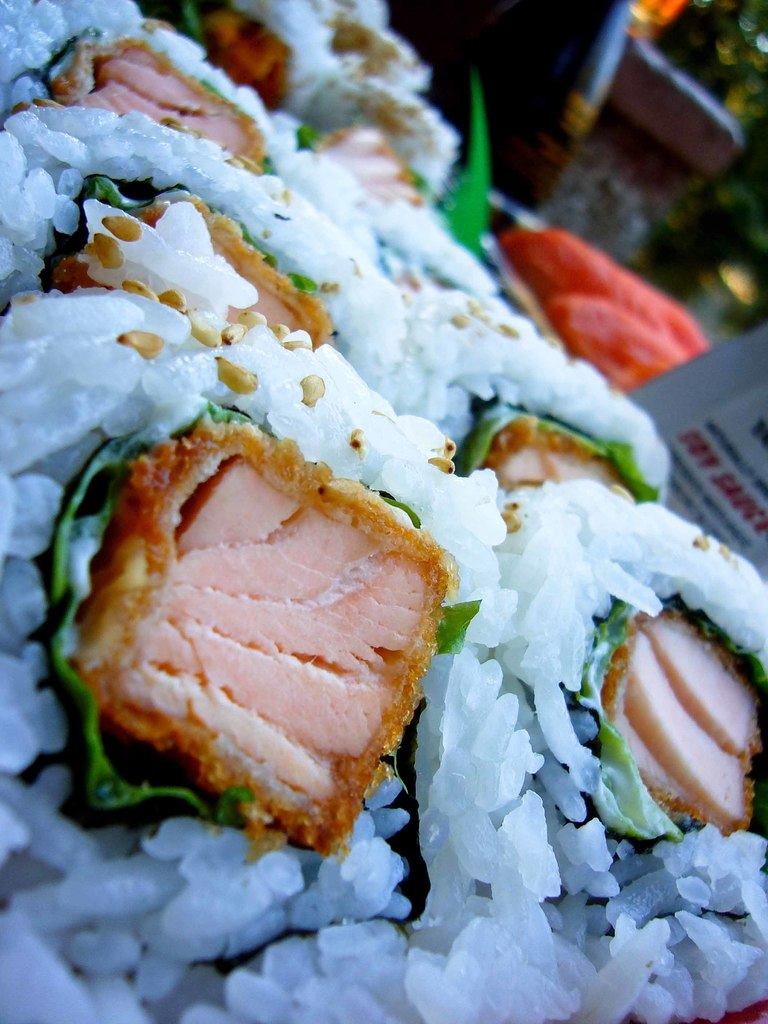sushi: (51, 408, 464, 858), (38, 168, 334, 349), (588, 595, 767, 838), (40, 30, 259, 175), (471, 399, 653, 504)
